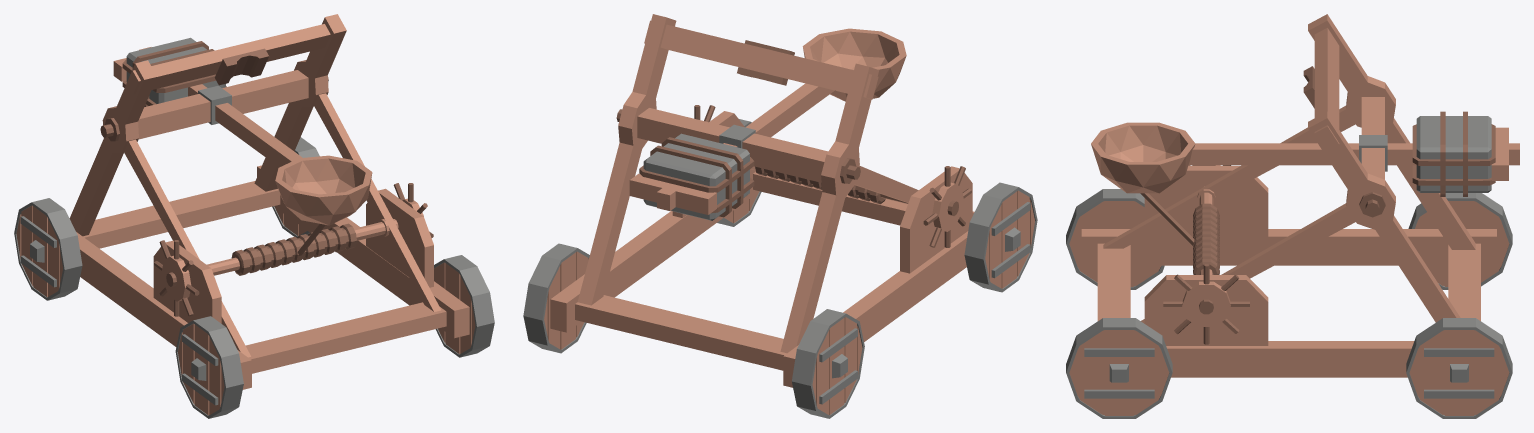
File: ankers-low-poly-medieval-weapons--catapult.glb
3 renders of one model, left to right at view 1: azimuth 30°, elevation 25°; view 2: azimuth 150°, elevation 25°; view 3: azimuth 270°, elevation 25°, orthographic. The views are drawn at different scales.
Visible parts, largest first — view 1: Catapult; view 2: Catapult; view 3: Catapult.
Boxes of the visible parts, box(x1,y1,x2,y2) form: Catapult: box(14, 14, 494, 418); Catapult: box(523, 14, 1037, 418); Catapult: box(1066, 14, 1519, 418).
Bounding box in the file's own units: 4.9 × 4.5 × 6.52.
